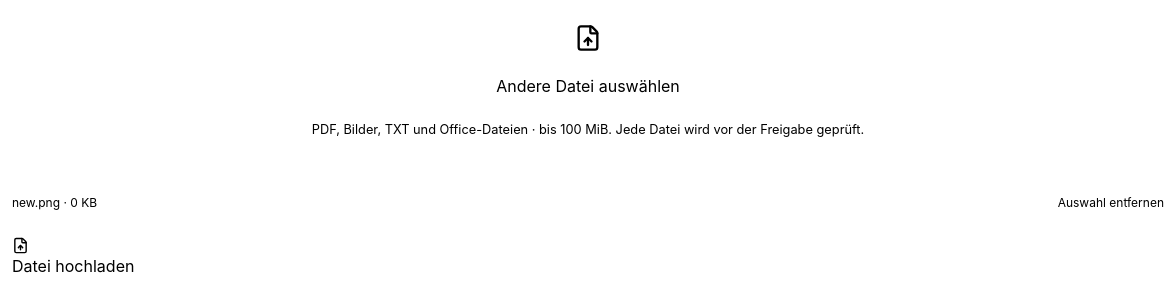
it: refreshes a file list whose first read predates a confirmed upload
Earlier steps of the test are not shown.
Click the button "Datei hochladen" at (73,258), box [12,237,134,278]
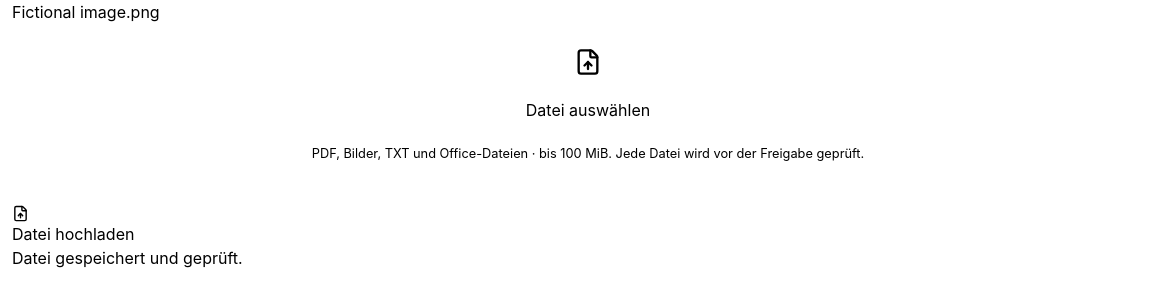
Check: the text "Fictional image.png" is shown, box [12,2,160,22]
